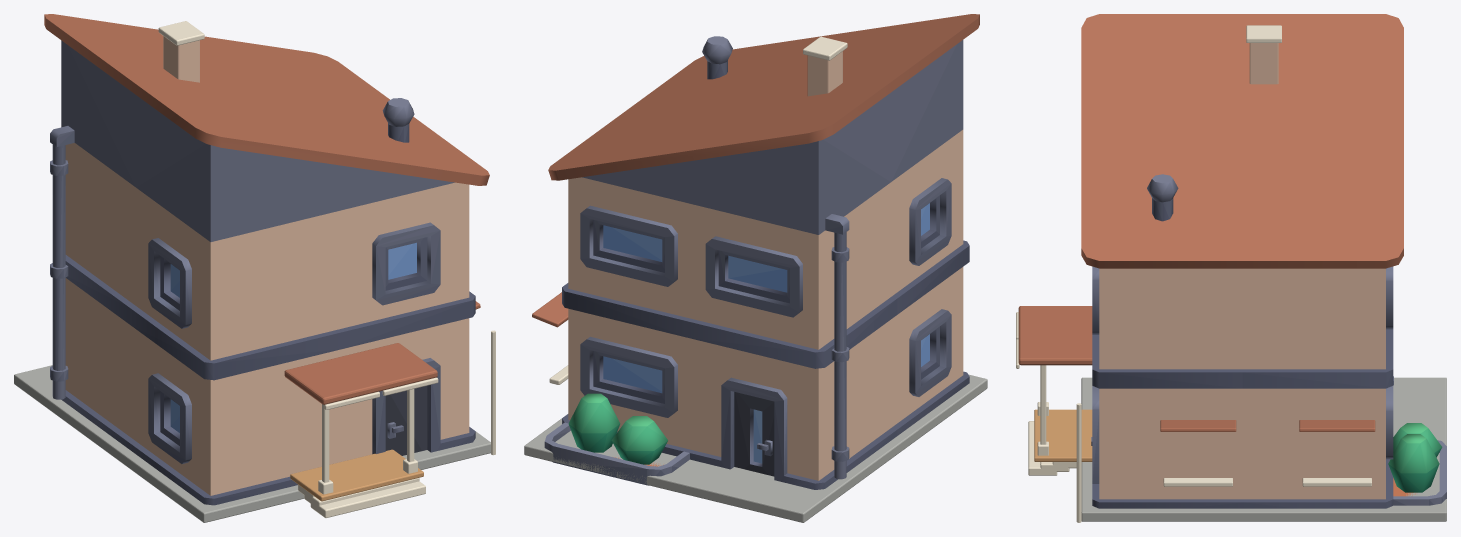
File: house_peach.glb
The picture shows the model from 3 angles, left to right: view 1: azimuth 30°, elevation 25°; view 2: azimuth 150°, elevation 25°; view 3: azimuth 270°, elevation 25°; orthographic projection. The views are drawn at different scales.
Visible parts, largest first — view 1: house_peach_Mesh; view 2: house_peach_Mesh; view 3: house_peach_Mesh.
Part boxes in pixels (x1,y1,x2,y2): house_peach_Mesh: (14,14,495,522); house_peach_Mesh: (524,14,987,522); house_peach_Mesh: (1016,14,1446,522).
Size of the model in its own units: 7.99 by 9.59 by 9.62.
